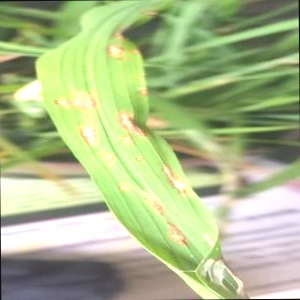Brown_Spot: (154, 152, 193, 195), (111, 104, 156, 141), (158, 217, 204, 252), (132, 192, 181, 222), (53, 89, 101, 112), (77, 119, 106, 149), (103, 22, 131, 48), (103, 35, 128, 62), (97, 144, 121, 171), (124, 41, 148, 64), (133, 79, 157, 101), (129, 150, 151, 170), (114, 133, 137, 152), (116, 178, 138, 196), (138, 4, 158, 21)
